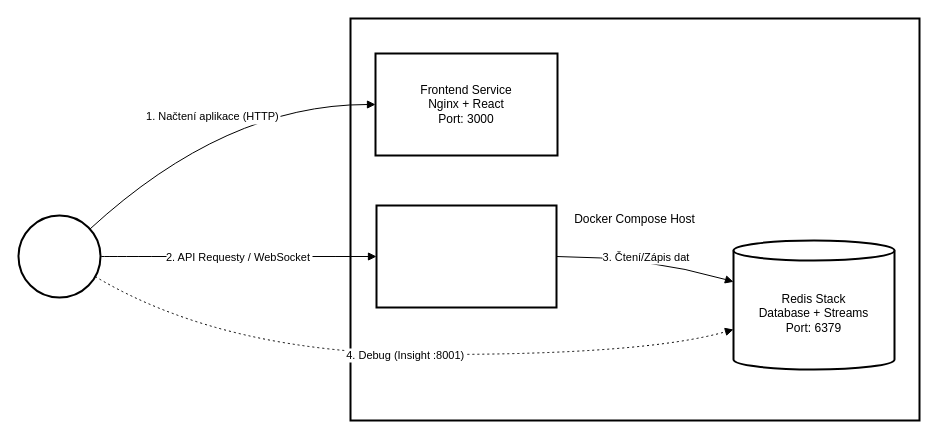
Image size: 937x438. Some labels were removed from this diagram. Here are the shapes that lost their labels. From the top down, the centre of each, then its label:
the point at 59,256: Uživatel Prohlížeč
the point at 466,256: Backend Service Node.js API Port: 4000
